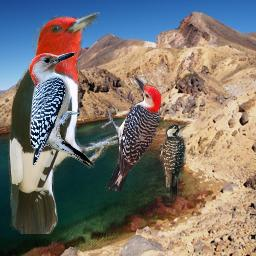Woodpecker: (7, 12, 127, 234), (23, 47, 101, 177), (99, 74, 161, 191), (153, 124, 188, 205)
